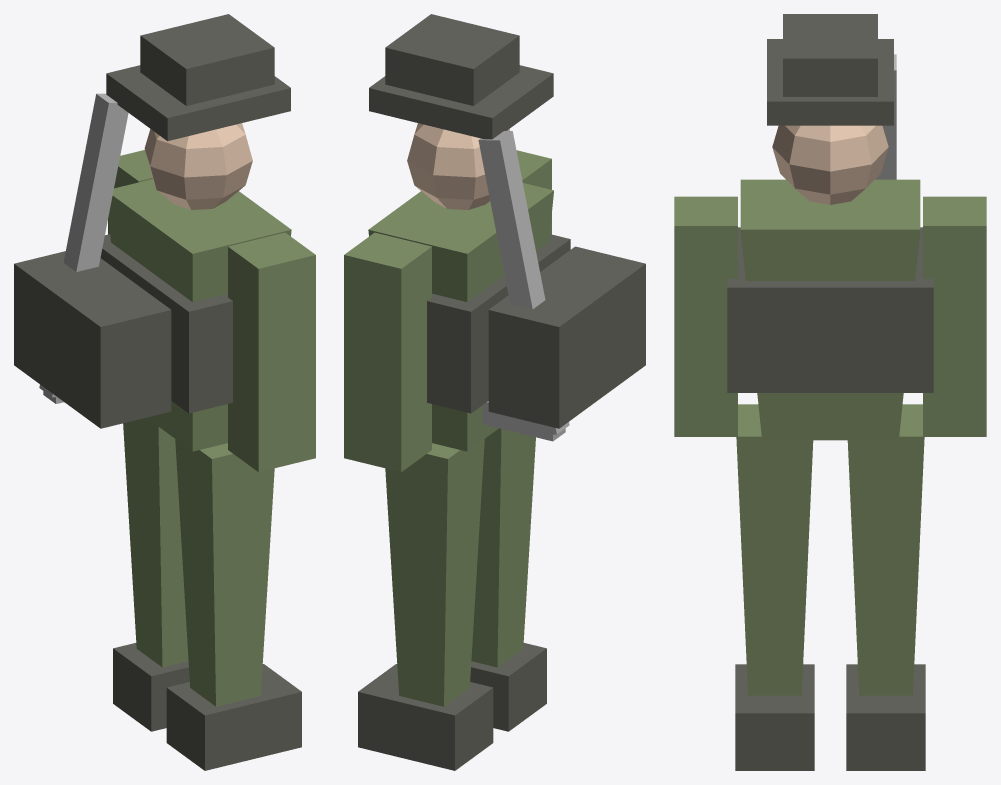
The model's file is unit_marksman.glb.
The picture shows the model from 3 angles, left to right: view 1: azimuth 30°, elevation 25°; view 2: azimuth 150°, elevation 25°; view 3: azimuth 270°, elevation 25°; orthographic projection. The views are drawn at different scales.
Visible parts, largest first — view 1: Marksman, accent_upper_Marksman, upper_Marksman, accent_Marksman, skin_upper_Marksman, trim_upper_Marksman; view 2: accent_upper_Marksman, Marksman, upper_Marksman, accent_Marksman, trim_upper_Marksman, skin_upper_Marksman; view 3: Marksman, accent_upper_Marksman, upper_Marksman, accent_Marksman, skin_upper_Marksman, trim_upper_Marksman.
Part boxes in pixels (box(x1,y1,x2,y2)): Marksman: box(108, 179, 291, 706); accent_upper_Marksman: box(14, 14, 290, 428); upper_Marksman: box(108, 150, 315, 472); accent_Marksman: box(113, 643, 301, 770); skin_upper_Marksman: box(144, 123, 252, 209); trim_upper_Marksman: box(39, 93, 128, 403); accent_upper_Marksman: box(369, 14, 645, 428); Marksman: box(368, 183, 553, 706); upper_Marksman: box(344, 150, 551, 472); accent_Marksman: box(358, 643, 546, 770); trim_upper_Marksman: box(478, 131, 569, 441); skin_upper_Marksman: box(407, 123, 509, 209); Marksman: box(736, 179, 924, 695); accent_upper_Marksman: box(727, 14, 933, 392); upper_Marksman: box(674, 196, 986, 436); accent_Marksman: box(735, 664, 925, 770); skin_upper_Marksman: box(772, 125, 888, 204); trim_upper_Marksman: box(875, 54, 896, 179).
Size of the model in its own units: 0.46 by 1.48 by 0.59.
